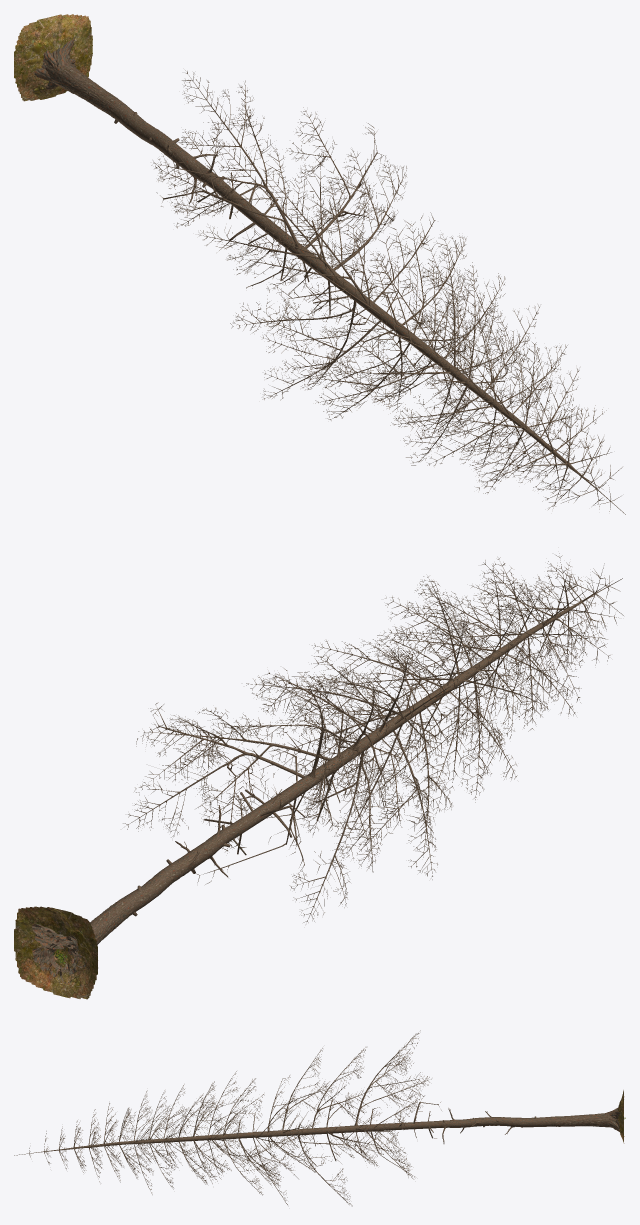
File: pine tree.glb
The picture shows the model from 3 angles, top to bottom: view 1: azimuth 30°, elevation 25°; view 2: azimuth 150°, elevation 25°; view 3: azimuth 270°, elevation 25°; orthographic projection. The views are drawn at different scales.
Visible parts, largest first — view 1: Pine Tree Sylvestris.001; view 2: Pine Tree Sylvestris.001; view 3: Pine Tree Sylvestris.001.
Boxes of the visible parts, x1,y1,x2,y2 form: Pine Tree Sylvestris.001: (14, 14, 625, 514); Pine Tree Sylvestris.001: (14, 553, 623, 999); Pine Tree Sylvestris.001: (14, 1030, 624, 1206).
Size of the model in its own units: 7.38 by 8.68 by 29.47.
4 materials, 4 textured.
